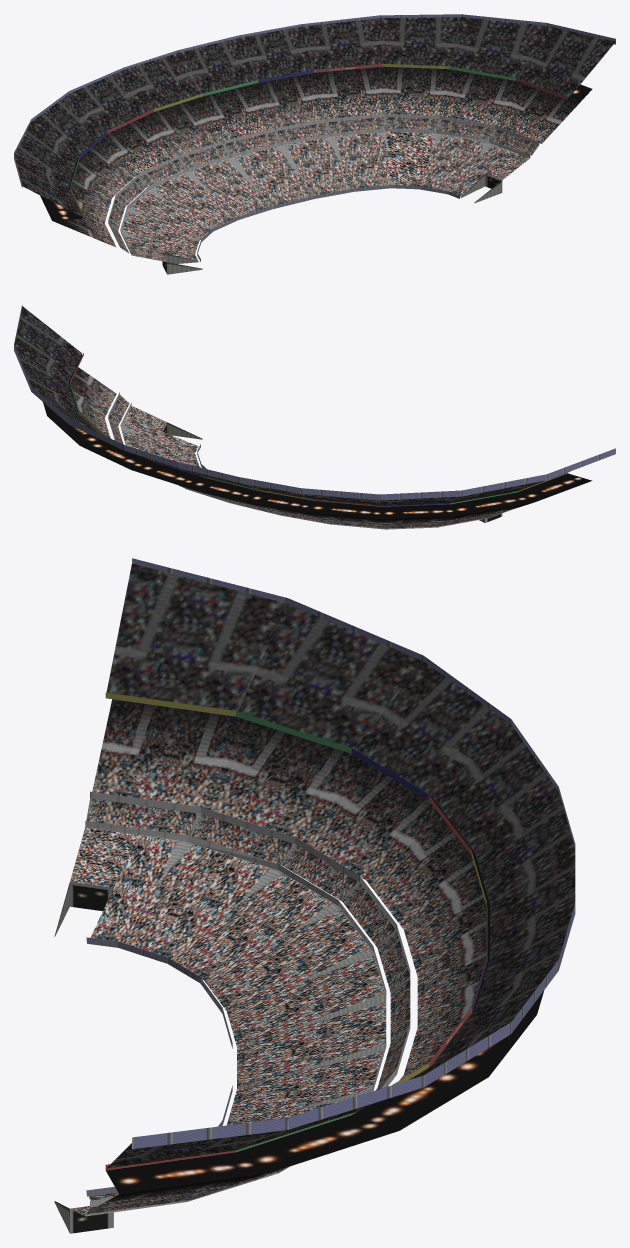
3 views of the same model, one above another, from view 1: azimuth 30°, elevation 25°; view 2: azimuth 150°, elevation 25°; view 3: azimuth 270°, elevation 25° (orthographic). The views are drawn at different scales.
Bounding box in the file's own units: 196 × 35.15 × 74.54.
Materials: 9 (9 with a texture image).
